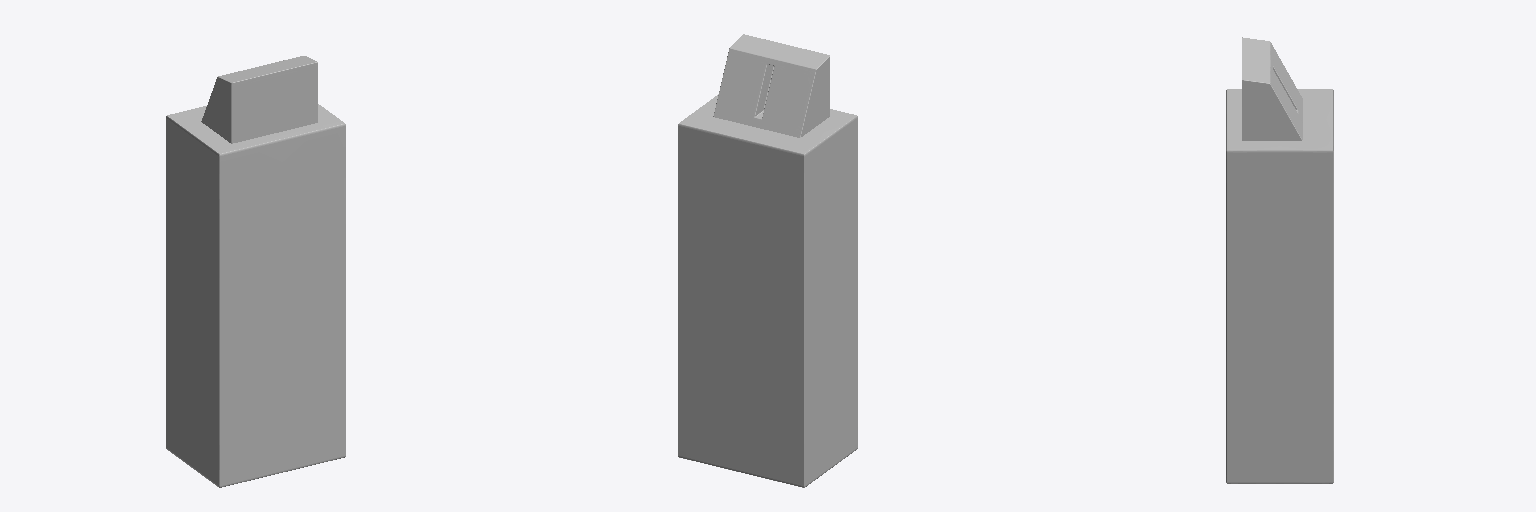
Rendered from tragamoneda.obj.
3 renders of one model, left to right at view 1: azimuth 30°, elevation 25°; view 2: azimuth 150°, elevation 25°; view 3: azimuth 270°, elevation 25°, orthographic.
Parts seen in each view (by area): view 1: model_0; view 2: model_0; view 3: model_0.
Part boxes in pixels (left/top/right/bottom): model_0: left=166, top=56, right=345, bottom=487; model_0: left=678, top=34, right=857, bottom=487; model_0: left=1226, top=37, right=1333, bottom=483.
Size of the model in its own units: 5.31 by 15.81 by 3.89.